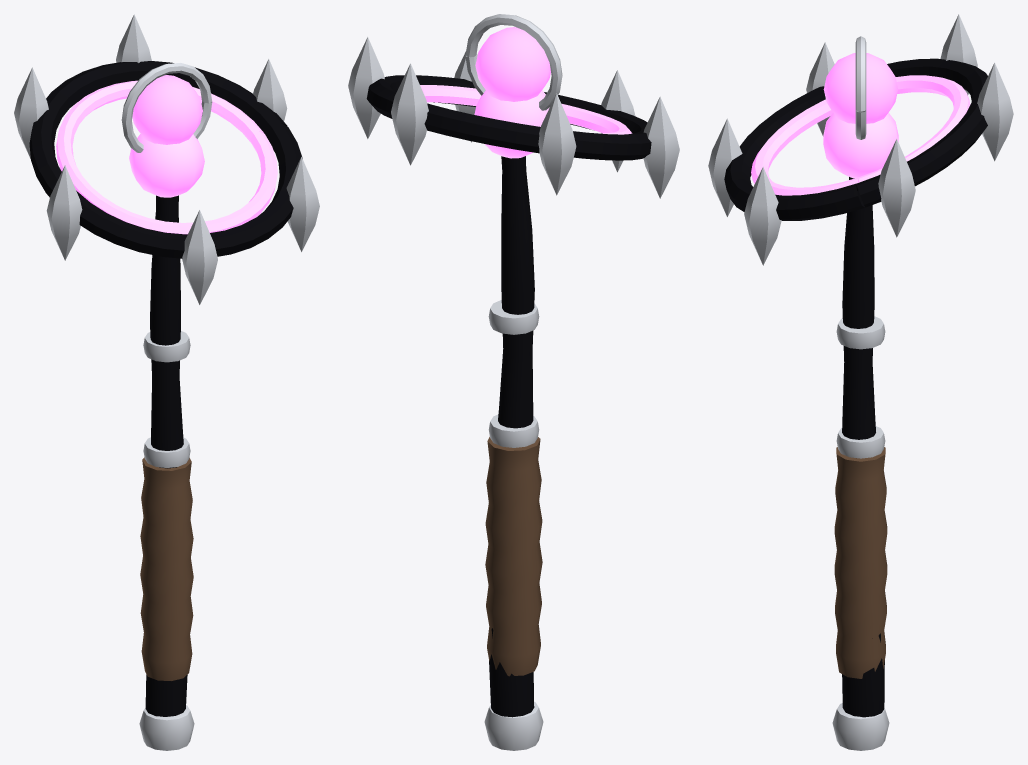
File: esc_w_mage_wand_9.glb
The picture shows the model from 3 angles, left to right: view 1: azimuth 30°, elevation 25°; view 2: azimuth 150°, elevation 25°; view 3: azimuth 270°, elevation 25°; orthographic projection. The views are drawn at different scales.
Parts seen in each view (by area): view 1: esc_w_mage_wand_9; view 2: esc_w_mage_wand_9; view 3: esc_w_mage_wand_9.
Boxes of the visible parts, x1=… form: esc_w_mage_wand_9: x1=14, y1=14, x2=319, y2=750; esc_w_mage_wand_9: x1=348, y1=14, x2=679, y2=750; esc_w_mage_wand_9: x1=708, y1=14, x2=1013, y2=750.
Bounding box in the file's own units: 0.1472 × 0.3565 × 0.1394.
